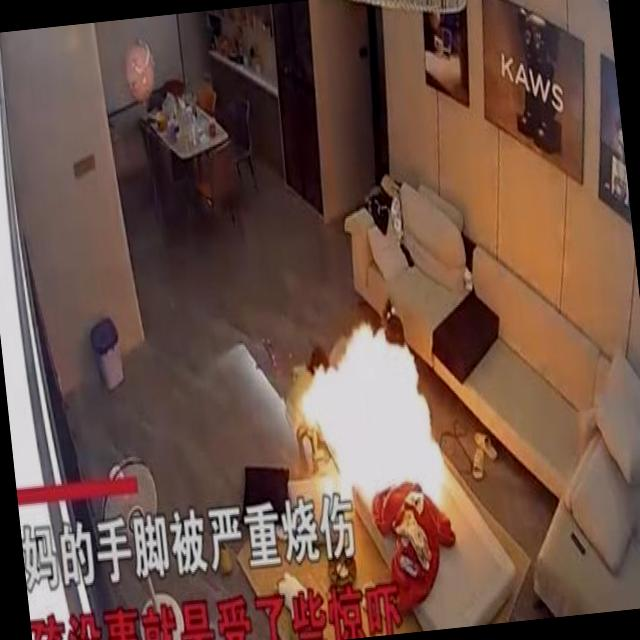fire: (302, 298, 448, 530)
